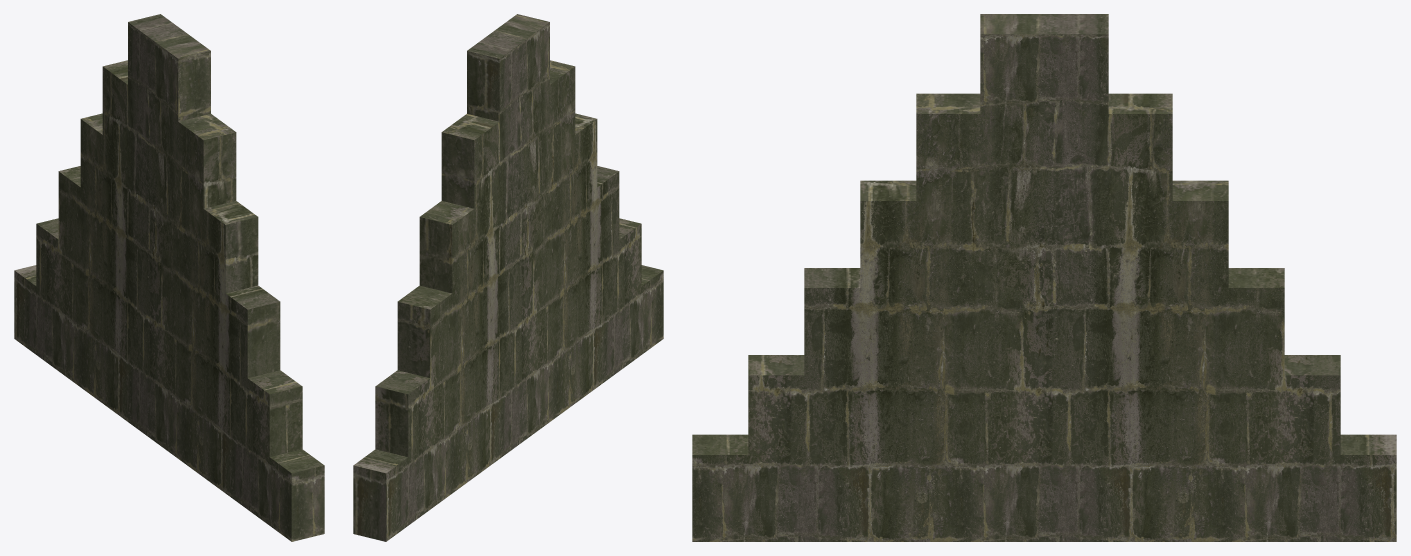
The model's file is Gable_Stepped.fbx.
3 renders of one model, left to right at view 1: azimuth 30°, elevation 25°; view 2: azimuth 150°, elevation 25°; view 3: azimuth 270°, elevation 25°, orthographic. The views are drawn at different scales.
Visible parts, largest first — view 1: Gable_Stepped; view 2: Gable_Stepped; view 3: Gable_Stepped.
Part boxes in pixels (bbox=[...]): Gable_Stepped: bbox=[14, 14, 324, 541]; Gable_Stepped: bbox=[353, 14, 663, 541]; Gable_Stepped: bbox=[692, 14, 1396, 541].
Bounding box in the file's own units: 51 × 595 × 748.
